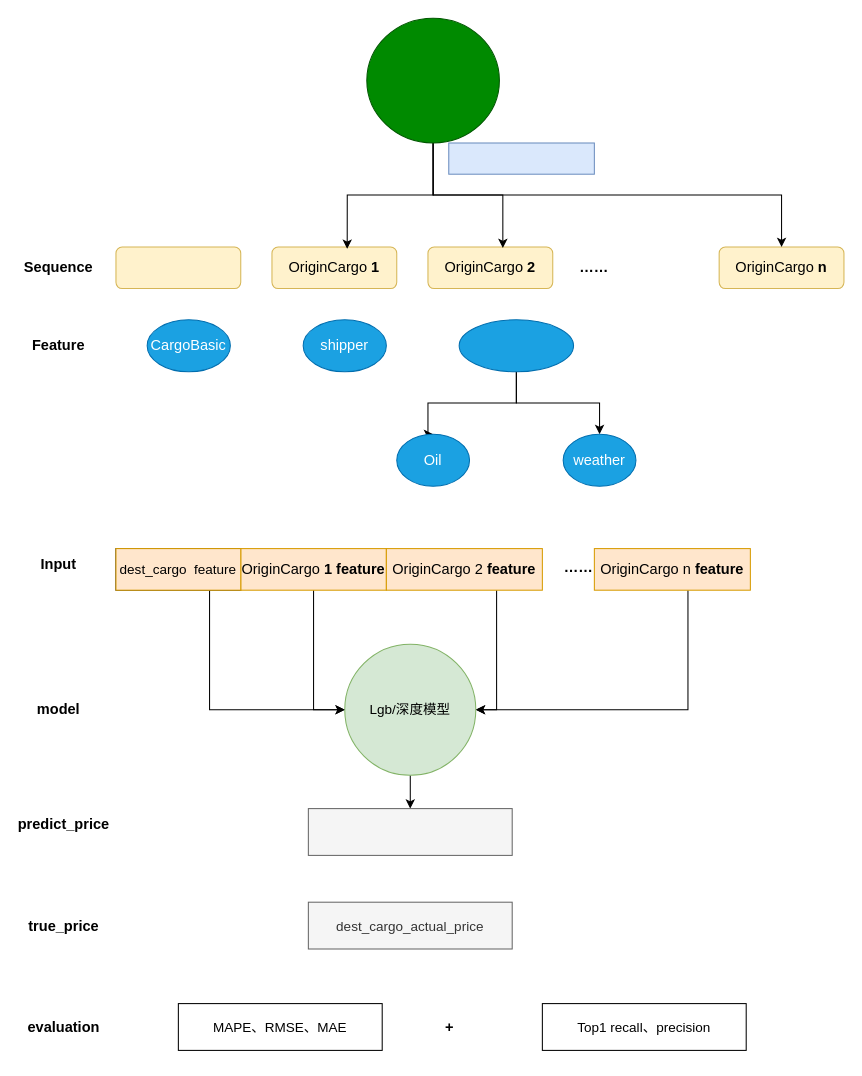
The diagram is 862 pixels wide and 1076 high, and some of its shapes have lost their labels. The centre of each missing label's shape, as x and y in pixels:
"dest_cargo" goes at (178,267).
"dest_cargo_predict_price" goes at (409,831).
"envionment" goes at (516,345).
"召回货源" goes at (432,80).
"按时间/相似分截断" goes at (521,158).
